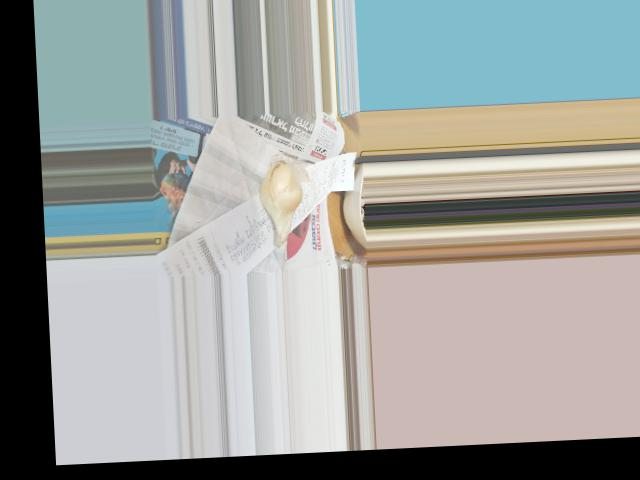onion: (261, 158, 302, 237)
